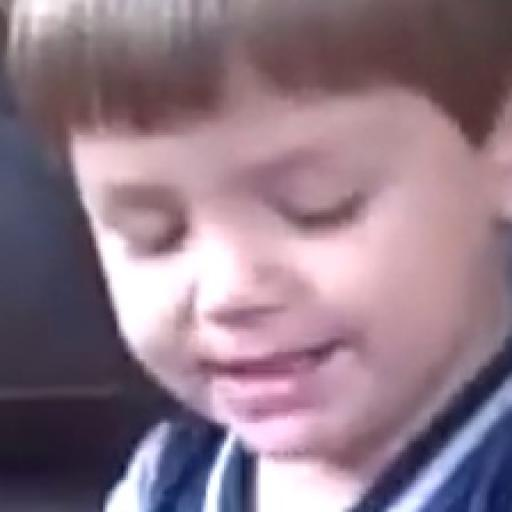Autism: (29, 10, 512, 470)
